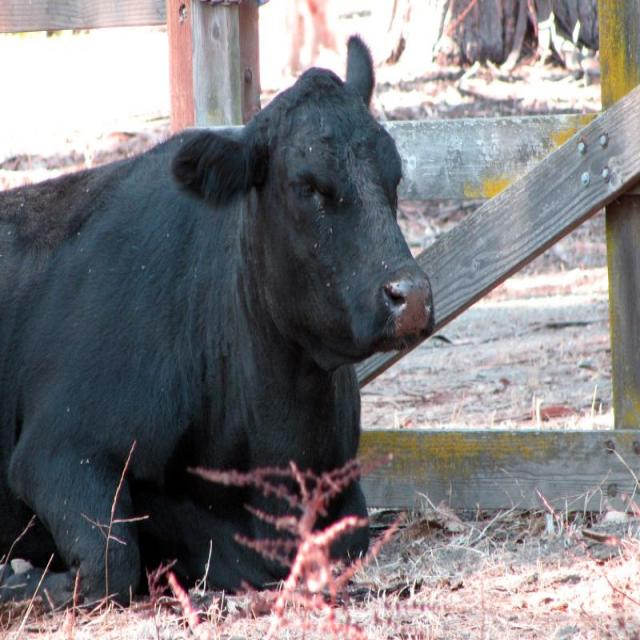cow: (0, 37, 434, 605)
